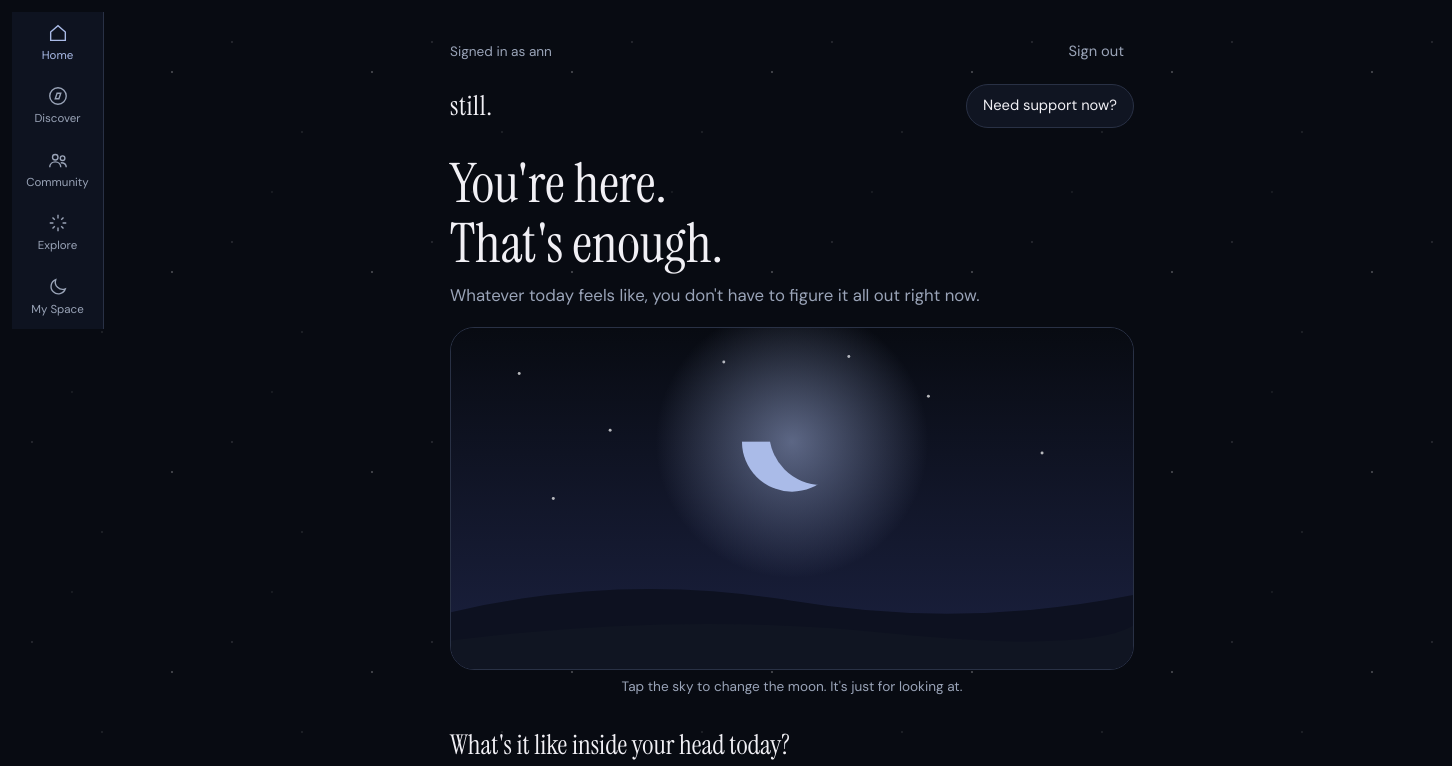
Test: sign out button
Check: the text "Signed in as ann" is shown, box x1=450 y1=41 x2=552 y2=63
Click the button "Sign out".
click(1096, 52)  # box x1=1058 y1=30 x2=1134 y2=74
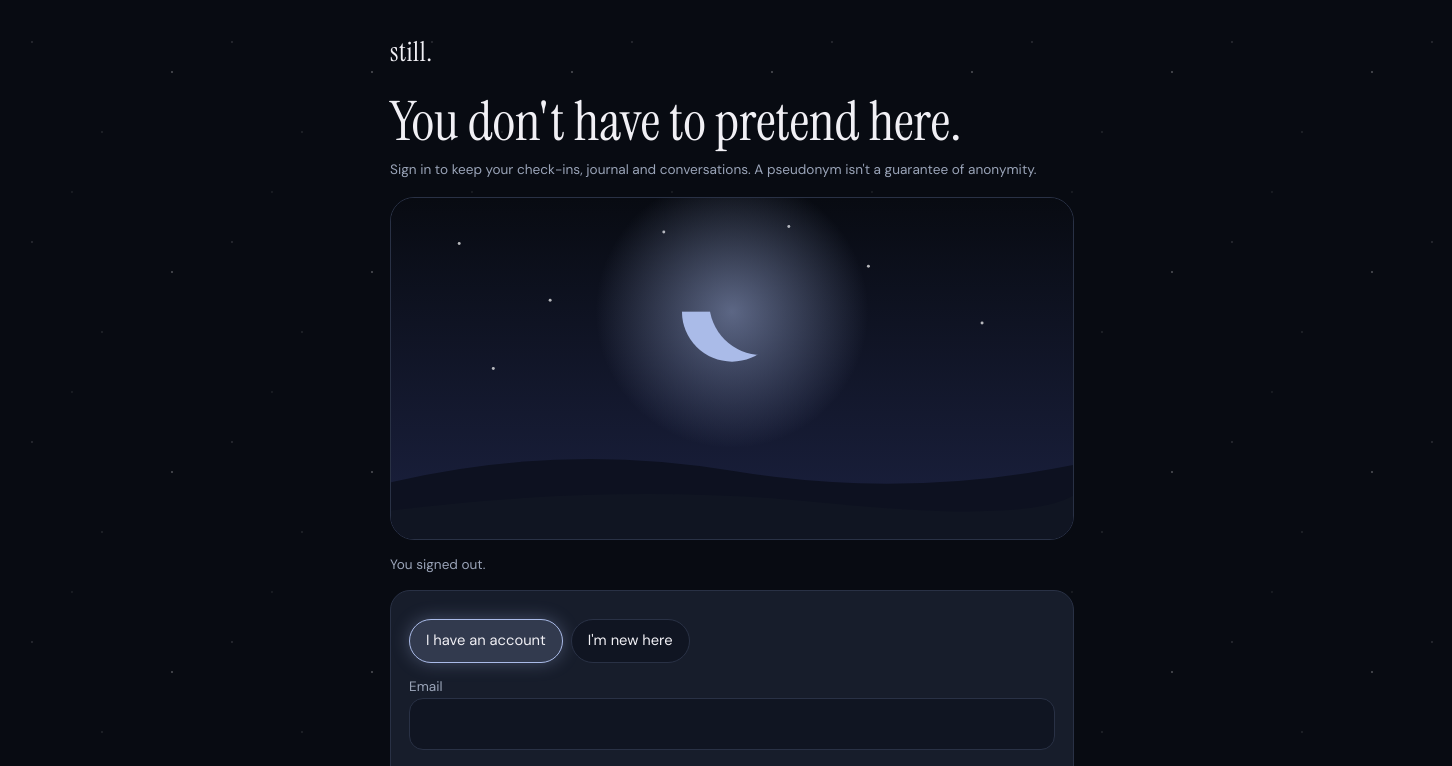
Check: the text "You signed out." is shown, box x1=390 y1=556 x2=485 y2=573
